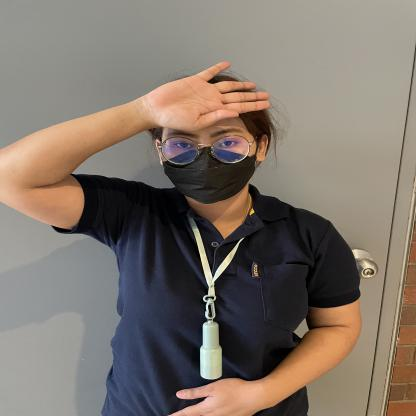Sick: (23, 40, 304, 142)
